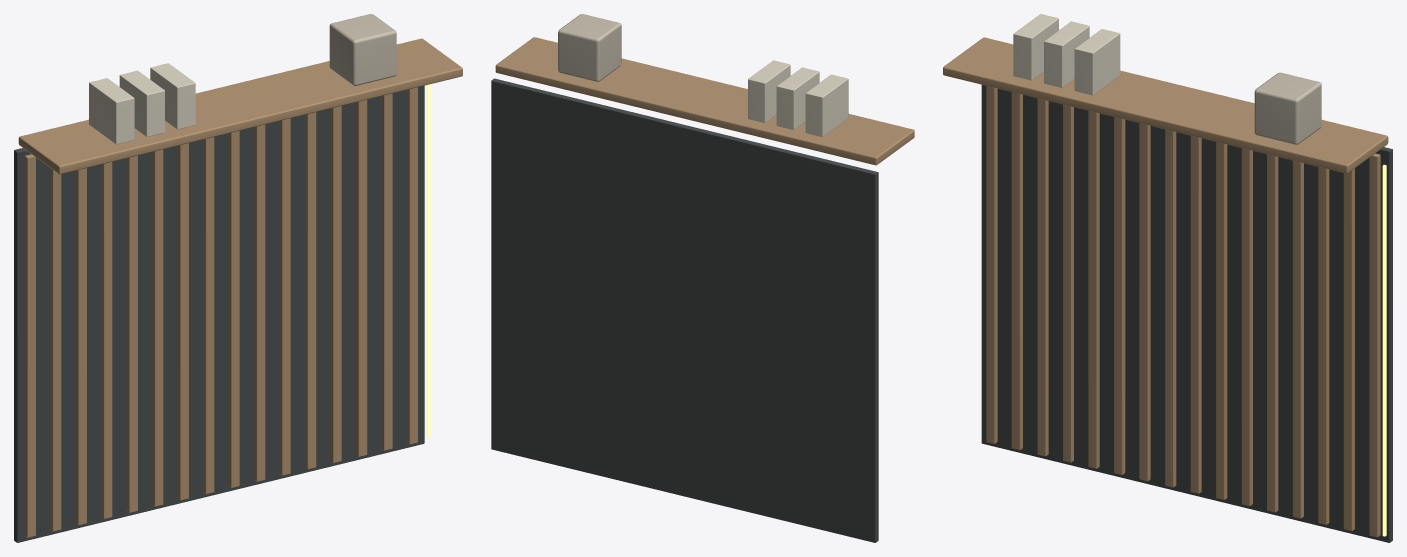
The model's file is desk-wall-panel.glb.
3 renders of one model, left to right at view 1: azimuth 30°, elevation 25°; view 2: azimuth 150°, elevation 25°; view 3: azimuth 330°, elevation 25°, orthographic. The views are drawn at different scales.
Visible parts, largest first — view 1: Felt backing; view 2: Felt backing; view 3: Felt backing.
Boxes of the visible parts, box(x1,y1,x2,y2) form: Felt backing: box(14, 14, 462, 542); Felt backing: box(491, 14, 914, 542); Felt backing: box(943, 14, 1392, 542).
Bounding box in the file's own units: 1.2 × 1.27 × 0.224.
